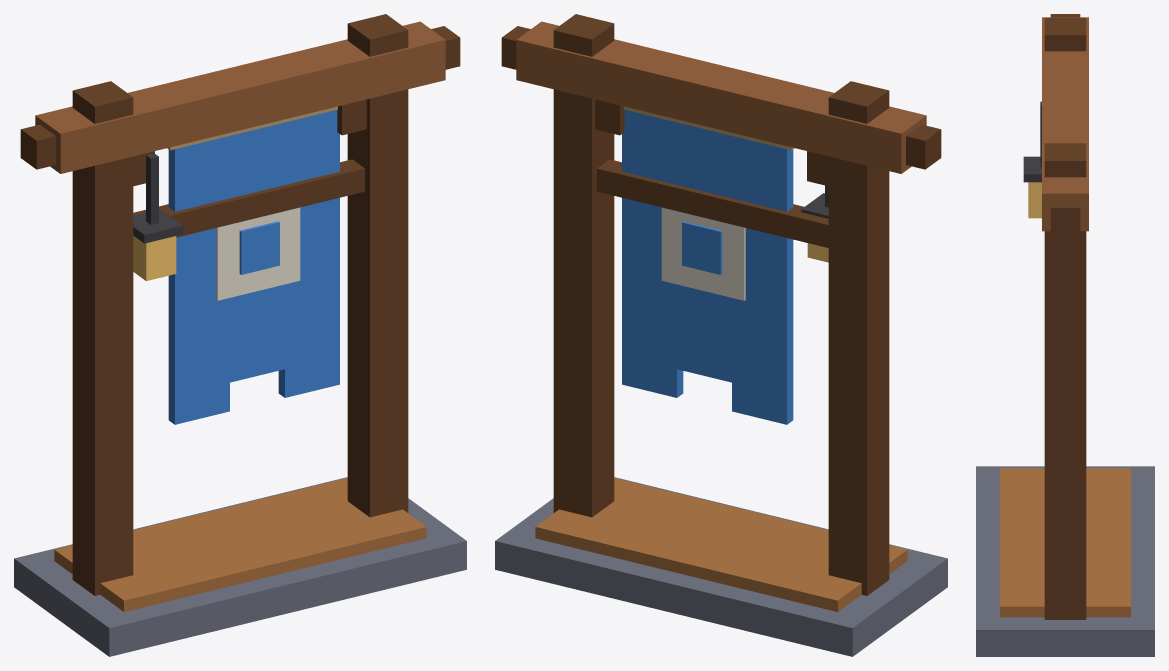
Rendered from FlagFrame.obj.
The picture shows the model from 3 angles, left to right: view 1: azimuth 30°, elevation 25°; view 2: azimuth 150°, elevation 25°; view 3: azimuth 270°, elevation 25°; orthographic projection. The views are drawn at different scales.
Visible parts, largest first — view 1: FlagFrame; view 2: FlagFrame; view 3: FlagFrame.
Part boxes in pixels (x1,y1,x2,y2): FlagFrame: (14, 14, 466, 656); FlagFrame: (495, 14, 947, 656); FlagFrame: (976, 14, 1154, 656).
Bounding box in the file's own units: 15.4 × 18 × 6.
